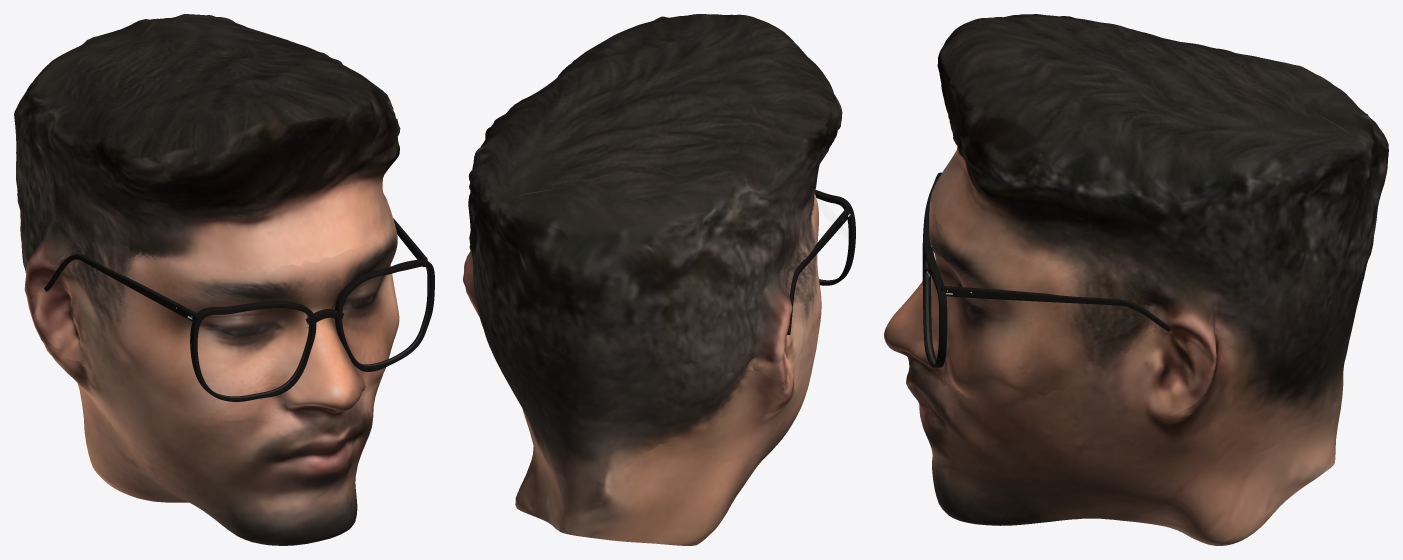
3 renders of one model, left to right at view 1: azimuth 30°, elevation 25°; view 2: azimuth 150°, elevation 25°; view 3: azimuth 270°, elevation 25°, orthographic. The views are drawn at different scales.
Visible parts, largest first — view 1: world, Eyeglass rim 1, Eyeglass rim 2, Eyeglass temple 1; view 2: world, Eyeglass rim 1, Eyeglass temple 1; view 3: world, Eyeglass rim 2, Eyeglass temple 2.
Boxes of the visible parts, x1=… form: world: x1=14, y1=14, x2=400, y2=545; Eyeglass rim 1: x1=190, y1=301, x2=316, y2=401; Eyeglass rim 2: x1=334, y1=259, x2=434, y2=371; Eyeglass temple 1: x1=44, y1=254, x2=197, y2=321; world: x1=463, y1=14, x2=842, y2=545; Eyeglass rim 1: x1=815, y1=190, x2=855, y2=285; Eyeglass temple 1: x1=787, y1=207, x2=851, y2=334; world: x1=884, y1=14, x2=1388, y2=545; Eyeglass rim 2: x1=922, y1=246, x2=947, y2=367; Eyeglass temple 2: x1=941, y1=286, x2=1171, y2=331.
Bounding box in the file's own units: 0.2263 × 0.3064 × 0.2949.
Materials: 7 (2 with a texture image).
